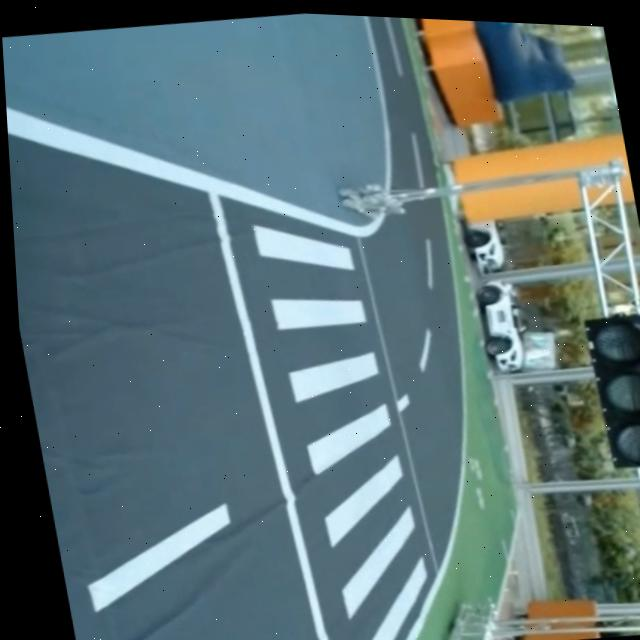traffic-light: (587, 312, 640, 473)
